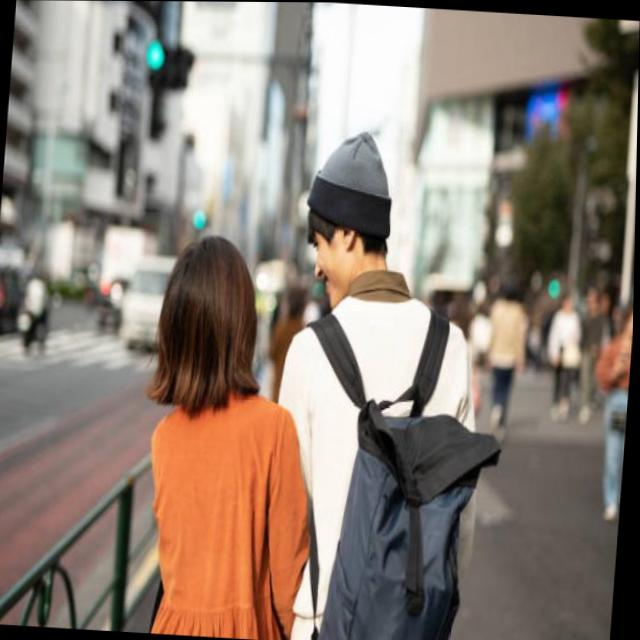no helmet: (128, 207, 287, 425)
